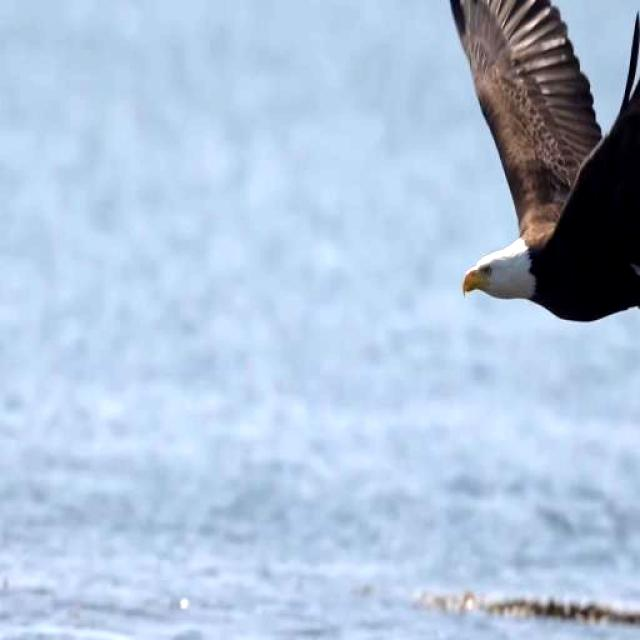airplane: (422, 0, 640, 336)
